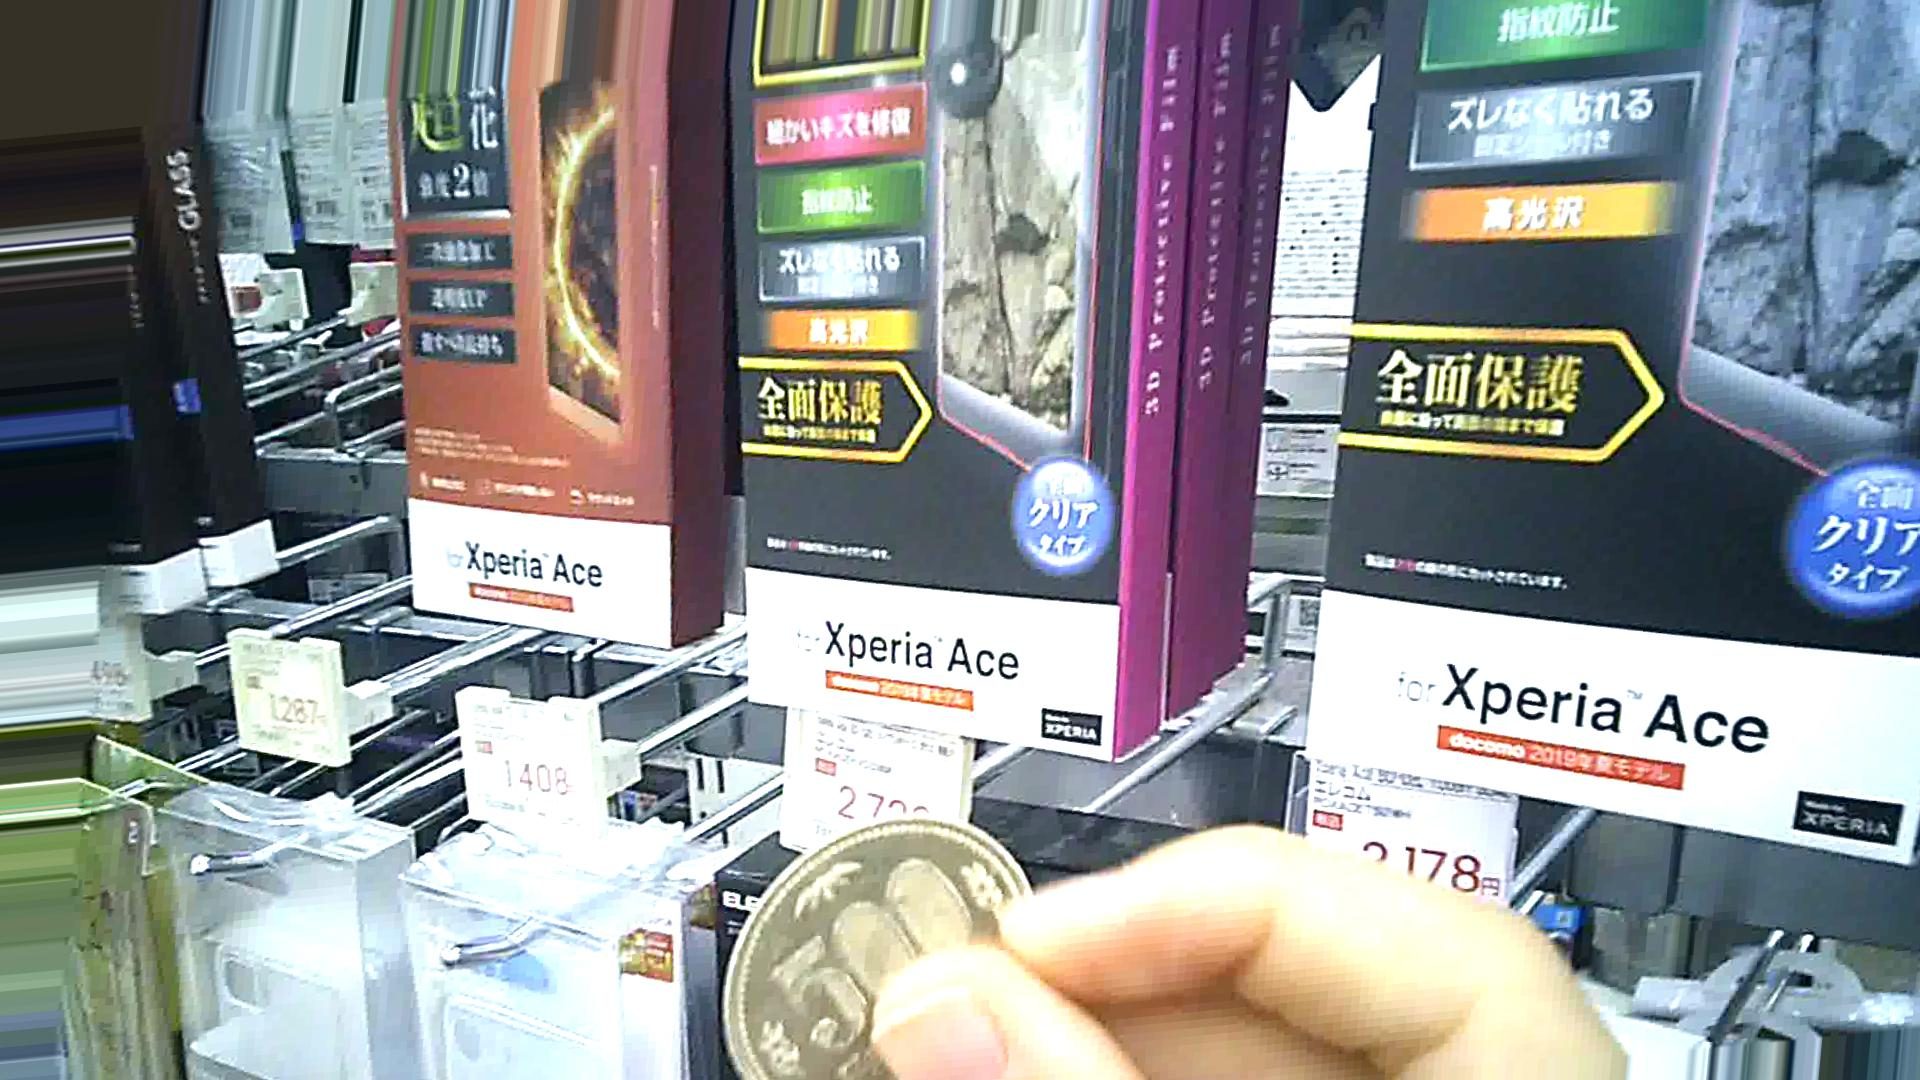500 Yen: (708, 802, 1031, 1079)
